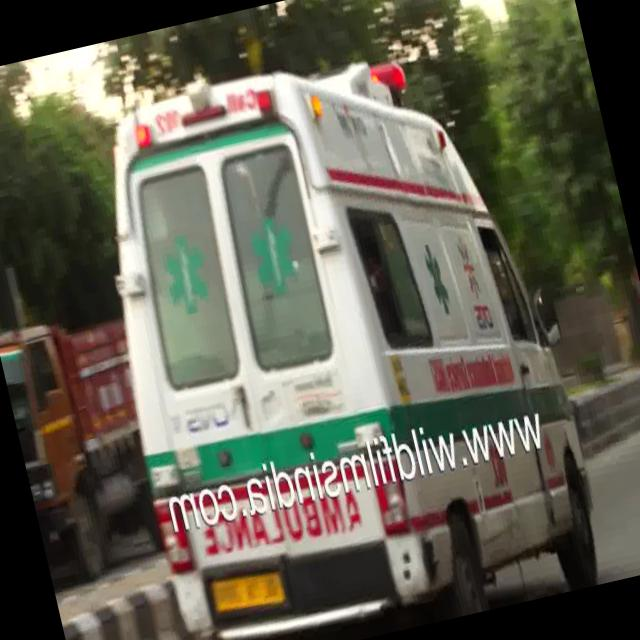ambulance: (67, 12, 552, 486)
